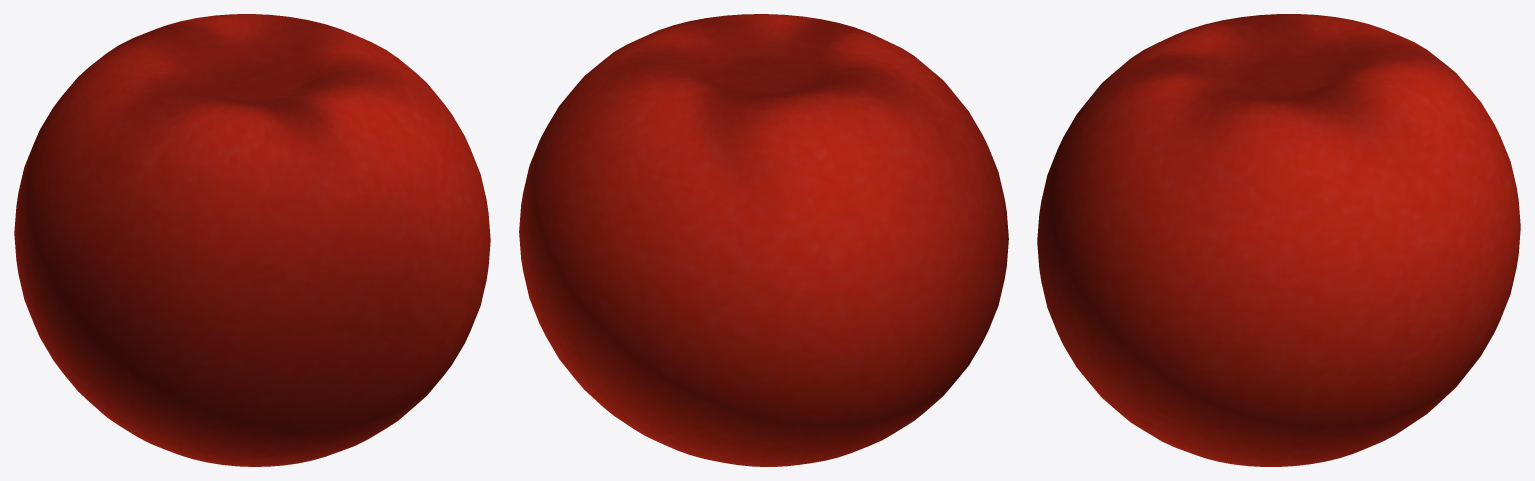
Rendered from tomato_07.obj.
The picture shows the model from 3 angles, left to right: view 1: azimuth 30°, elevation 25°; view 2: azimuth 150°, elevation 25°; view 3: azimuth 270°, elevation 25°; orthographic projection. The views are drawn at different scales.
Visible parts, largest first — view 1: tomato_07; view 2: tomato_07; view 3: tomato_07.
Part boxes in pixels (x1,y1,x2,y2): tomato_07: (14,14,490,466); tomato_07: (519,14,1008,466); tomato_07: (1037,14,1520,466).
Size of the model in its own units: 3.44 by 3.03 by 3.44.
1 material, 1 textured.
